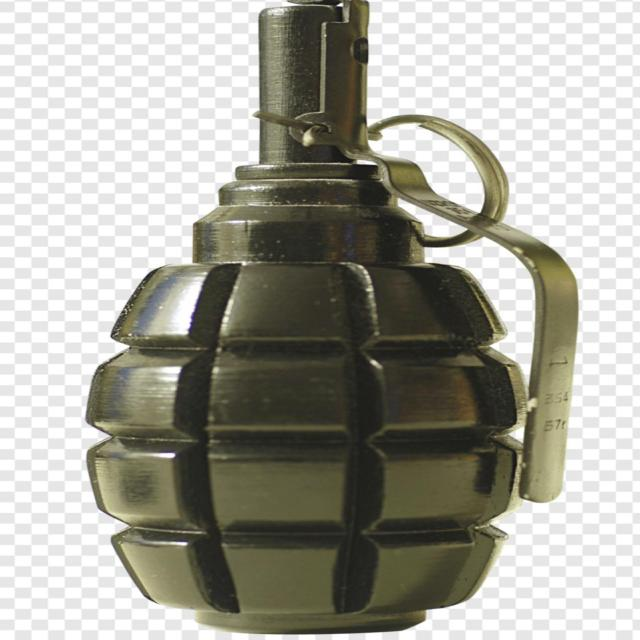grenade: (83, 1, 582, 635)
